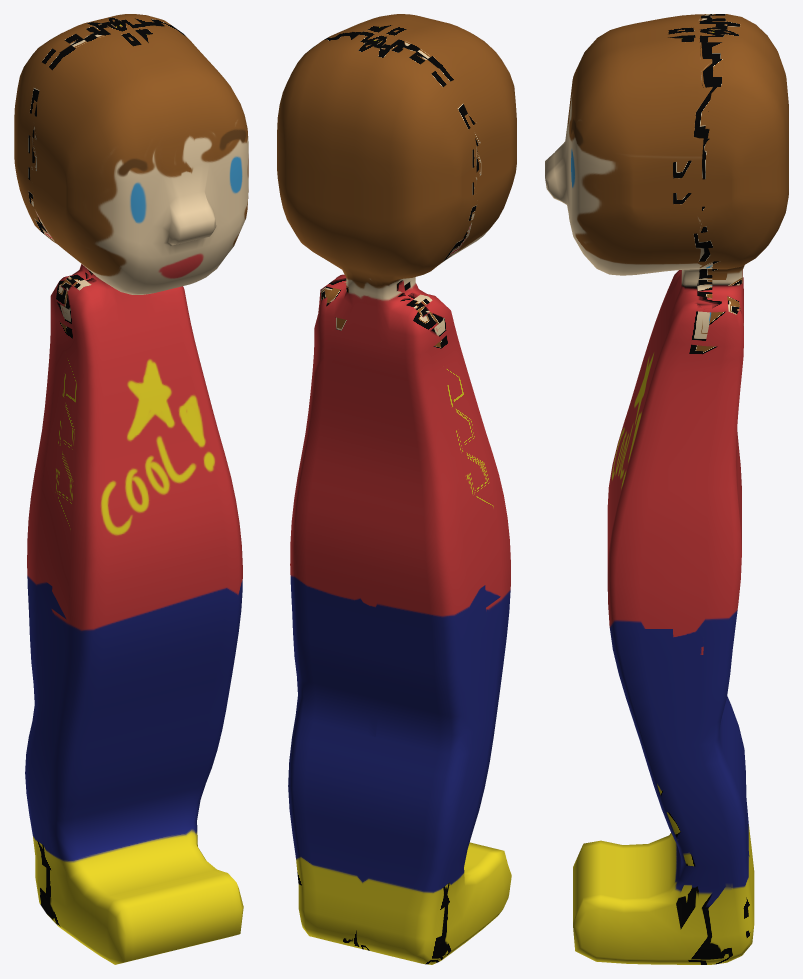
File: DemoPup.fbx
3 views of the same model, side by side, from view 1: azimuth 30°, elevation 25°; view 2: azimuth 150°, elevation 25°; view 3: azimuth 270°, elevation 25° (orthographic). The views are drawn at different scales.
Parts seen in each view (by area): view 1: DemoPupMesh; view 2: DemoPupMesh; view 3: DemoPupMesh.
Part boxes in pixels (bbox=[...]): DemoPupMesh: bbox=[14, 14, 248, 964]; DemoPupMesh: bbox=[277, 14, 516, 964]; DemoPupMesh: bbox=[545, 14, 788, 964].
Size of the model in its own units: 2.07 by 9.92 by 2.42.
1 material, 1 textured.
